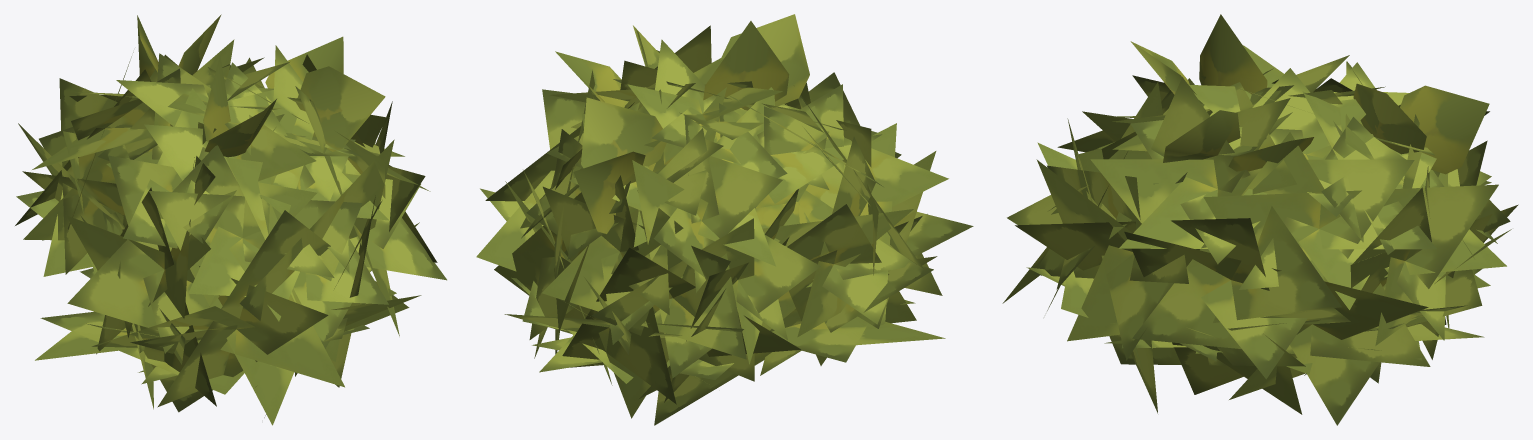
The model's file is Raspberry_Bush_3a.glb.
3 renders of one model, left to right at view 1: azimuth 30°, elevation 25°; view 2: azimuth 150°, elevation 25°; view 3: azimuth 270°, elevation 25°, orthographic. The views are drawn at different scales.
Parts seen in each view (by area): view 1: Raspberry_Bush_3a; view 2: Raspberry_Bush_3a; view 3: Raspberry_Bush_3a.
Part boxes in pixels (left/top/right/bottom): Raspberry_Bush_3a: left=15, top=14, right=446, bottom=425; Raspberry_Bush_3a: left=476, top=14, right=973, bottom=425; Raspberry_Bush_3a: left=1002, top=14, right=1518, bottom=425.
Bounding box in the file's own units: 1.36 × 1.11 × 1.45.
Materials: 1 (1 with a texture image).
